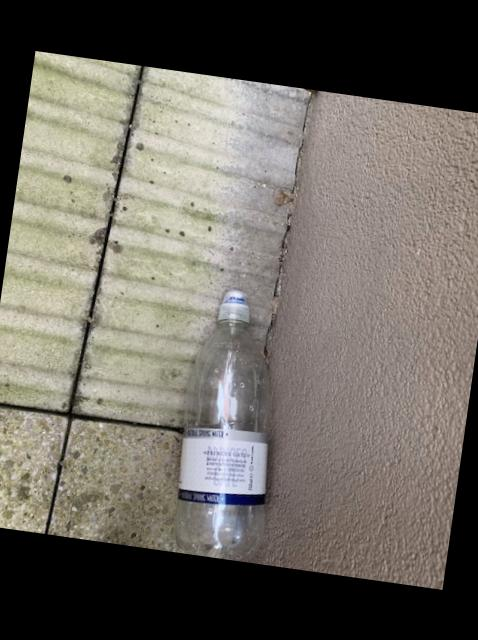plastic: (173, 291, 268, 559)
